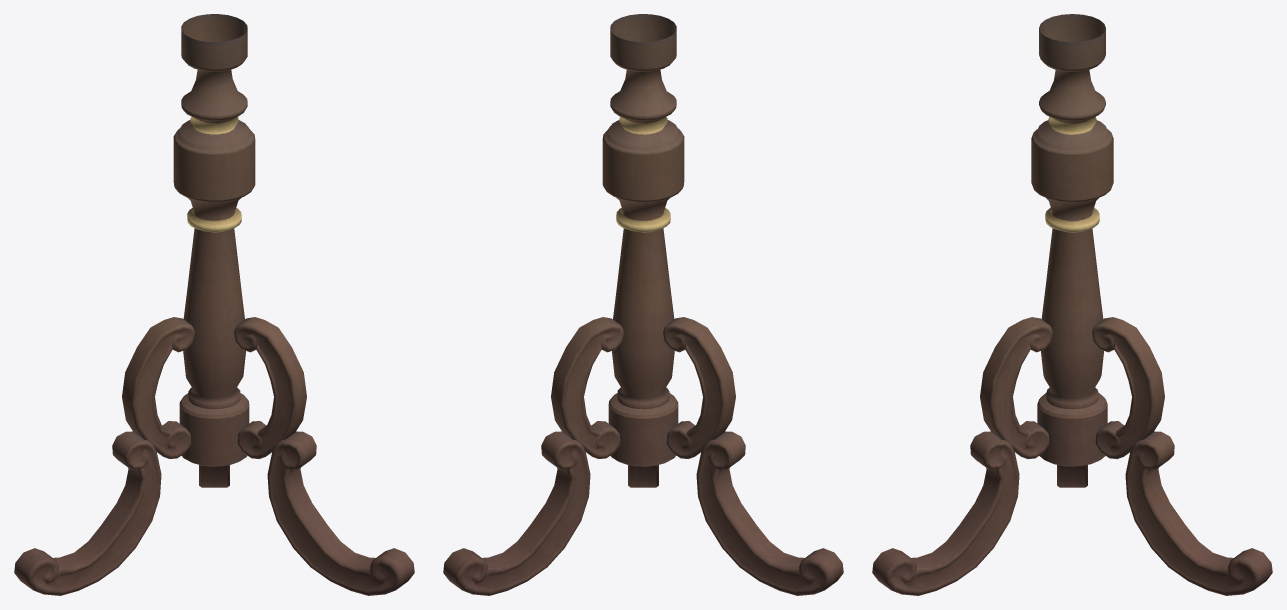
The model's file is ChristmasRoom_TableLeg.fbx.
3 renders of one model, left to right at view 1: azimuth 30°, elevation 25°; view 2: azimuth 150°, elevation 25°; view 3: azimuth 270°, elevation 25°, orthographic.
Parts seen in each view (by area): view 1: ChristmasRoom_TableLeg; view 2: ChristmasRoom_TableLeg; view 3: ChristmasRoom_TableLeg.
Part boxes in pixels (bbox=[...]): ChristmasRoom_TableLeg: bbox=[14, 14, 414, 595]; ChristmasRoom_TableLeg: bbox=[443, 14, 843, 595]; ChristmasRoom_TableLeg: bbox=[872, 14, 1272, 595].
Bounding box in the file's own units: 42.1 × 69.96 × 48.45.
